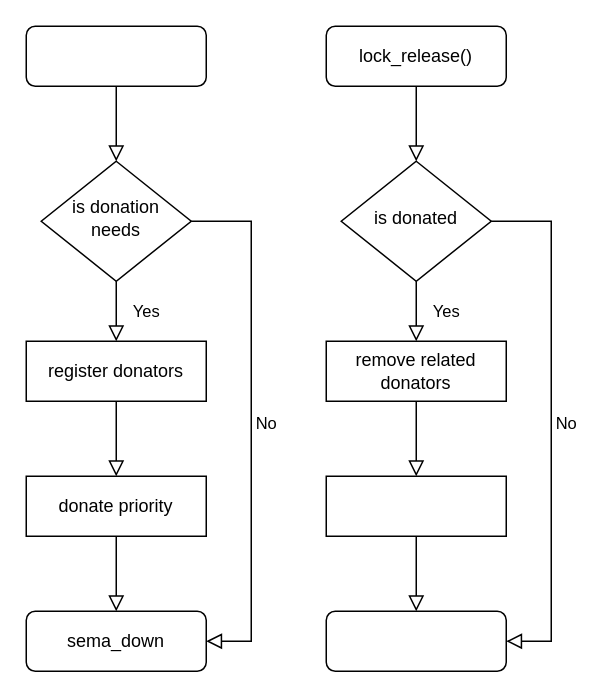
Some shapes in this 603 by 698 pixel diagram are drawn without their labels. The box of each missing label's shape, as (x1, y1, x2, y2) in pixels:
lock_aquire(): (25, 25, 206, 86)
restore priority: (325, 475, 506, 536)
sema_up: (325, 610, 506, 671)
